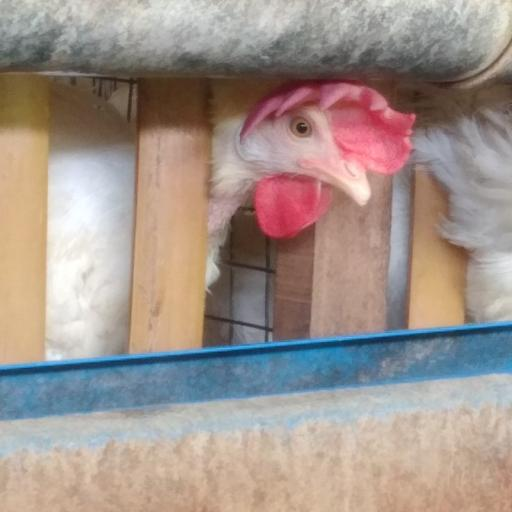healthy: (253, 82, 422, 214)
